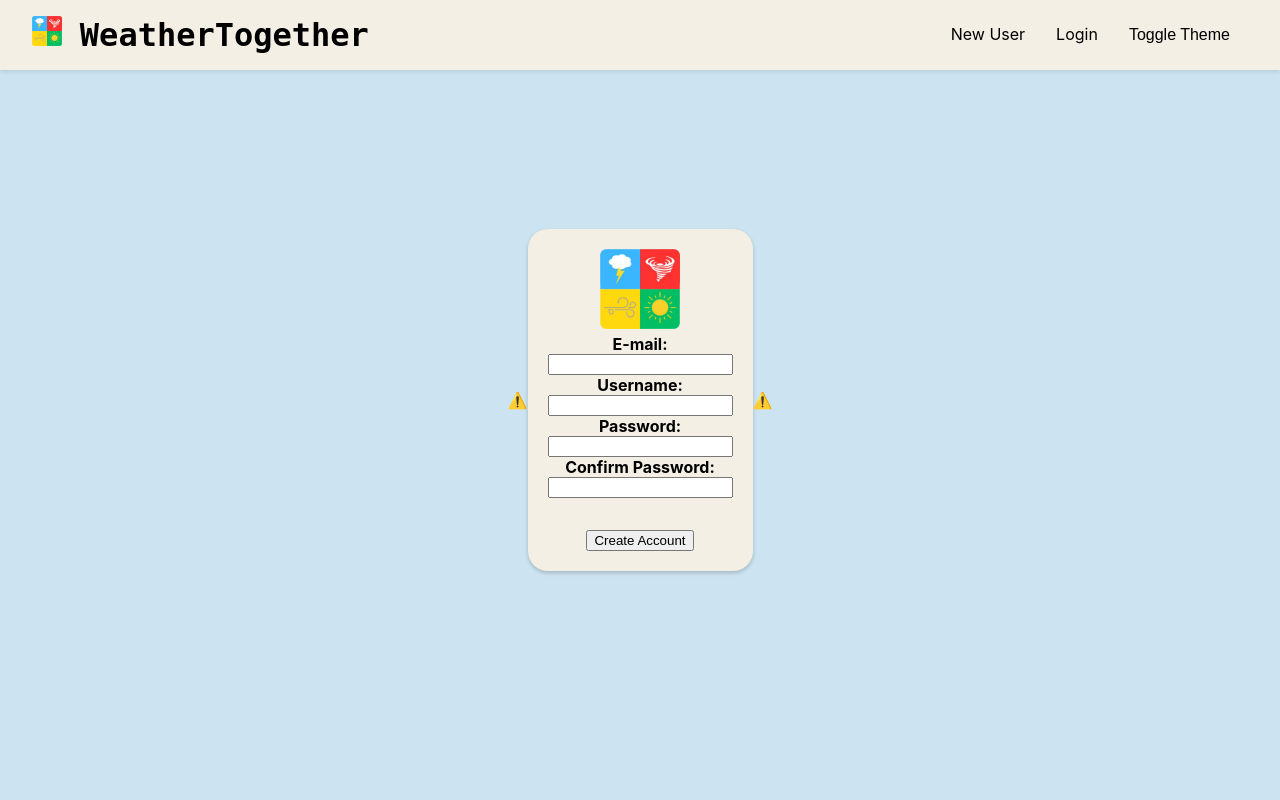
Test: Should allow New User creation with checks › Should fail creation if username is less than 5 characters
Type "brendan@gmail.com" into the field with class "email". click: (641,365)
box: [548,354,733,375]
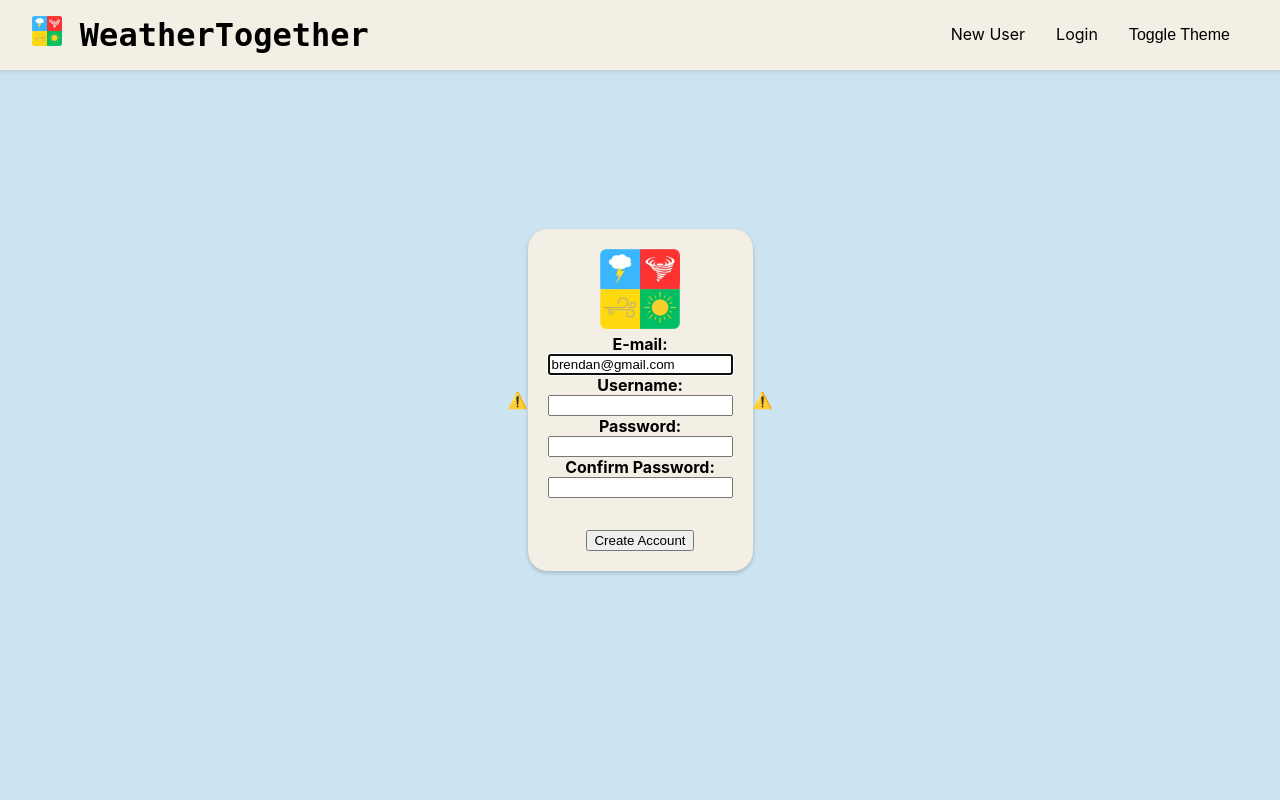
Type "four" into the field with class "username". click: (641,406)
box: [548,395,733,416]
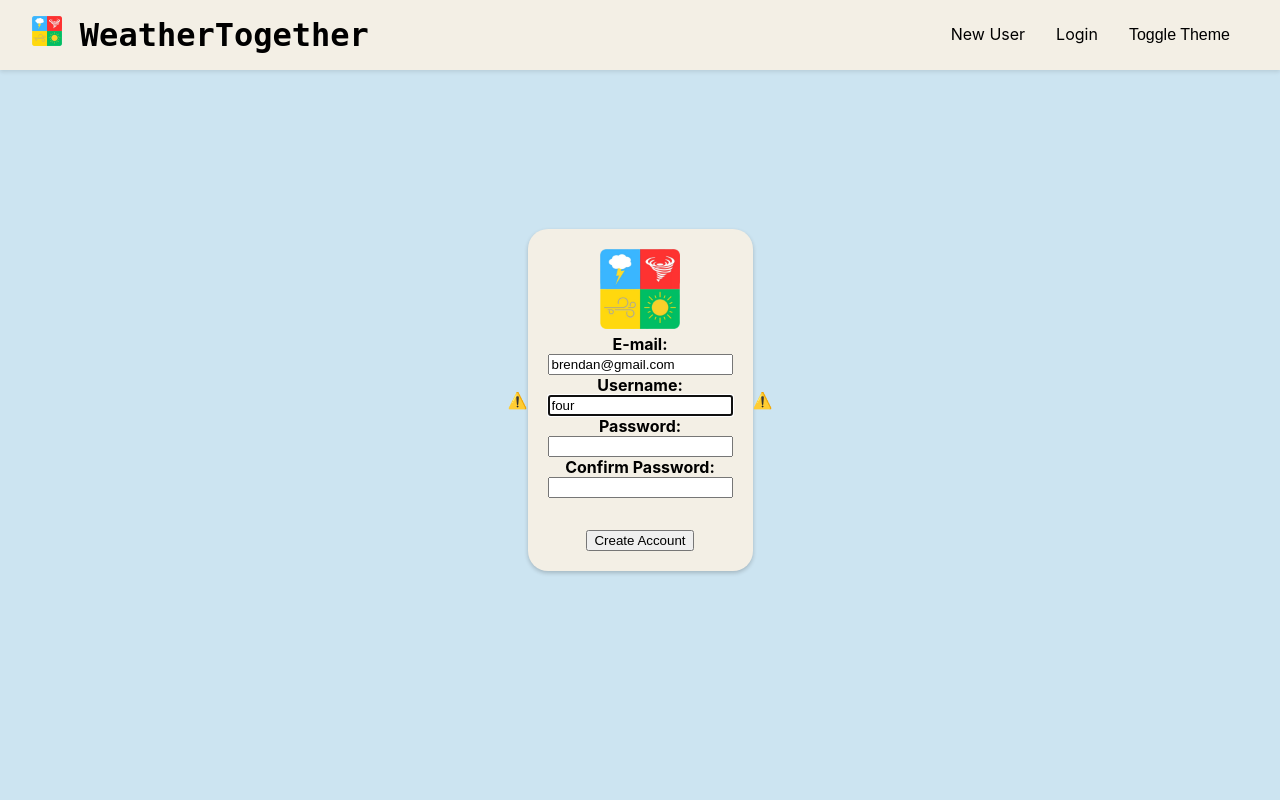
Click the button with class "create-account". click: (640,541)
box: [586,530,693,551]
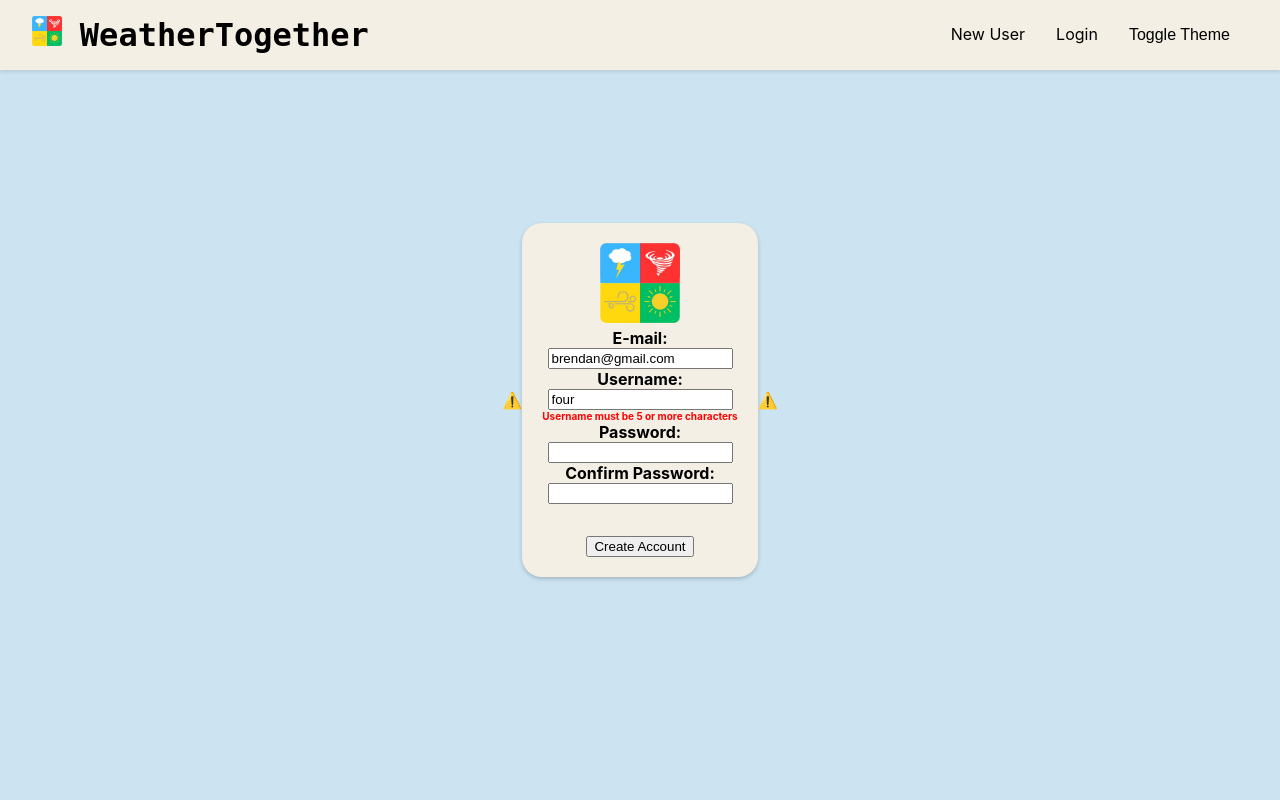
Check: the label with class "username-error" reads "Username must be 5 or more characters", box [542,410,737,422]
